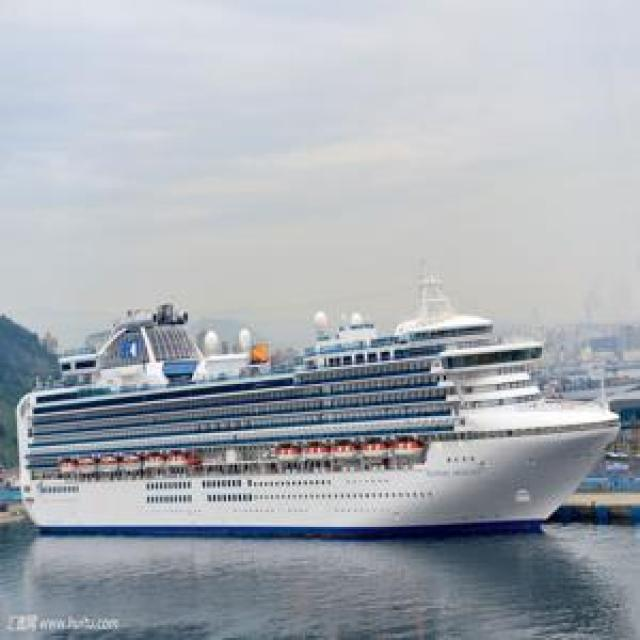passenger ship: (21, 264, 622, 532)
